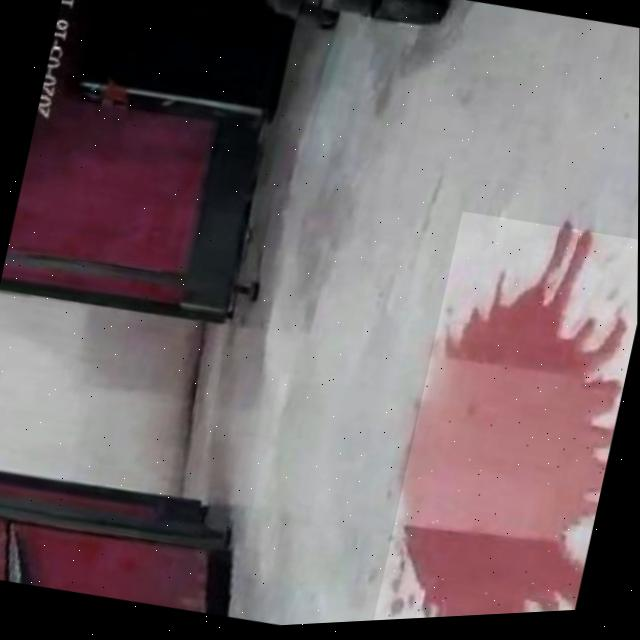spillage: (404, 234, 623, 622)
